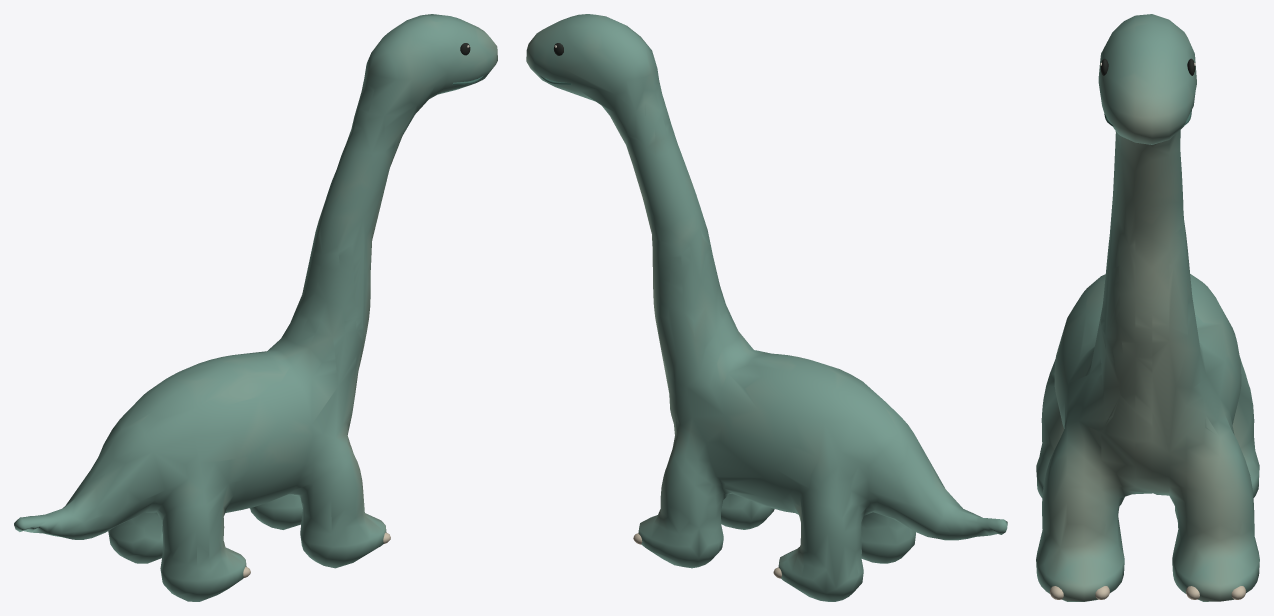
The model's file is brachiosaurus.glb.
The picture shows the model from 3 angles, left to right: view 1: azimuth 30°, elevation 25°; view 2: azimuth 150°, elevation 25°; view 3: azimuth 270°, elevation 25°; orthographic projection. The views are drawn at different scales.
Parts seen in each view (by area): view 1: clay-toy; view 2: clay-toy; view 3: clay-toy.
Boxes of the visible parts, left/top/right/bottom form: clay-toy: left=14, top=14, right=497, bottom=601; clay-toy: left=526, top=14, right=1007, bottom=601; clay-toy: left=1036, top=14, right=1259, bottom=601.
Bounding box in the file's own units: 3.39 × 3.38 × 1.05.
